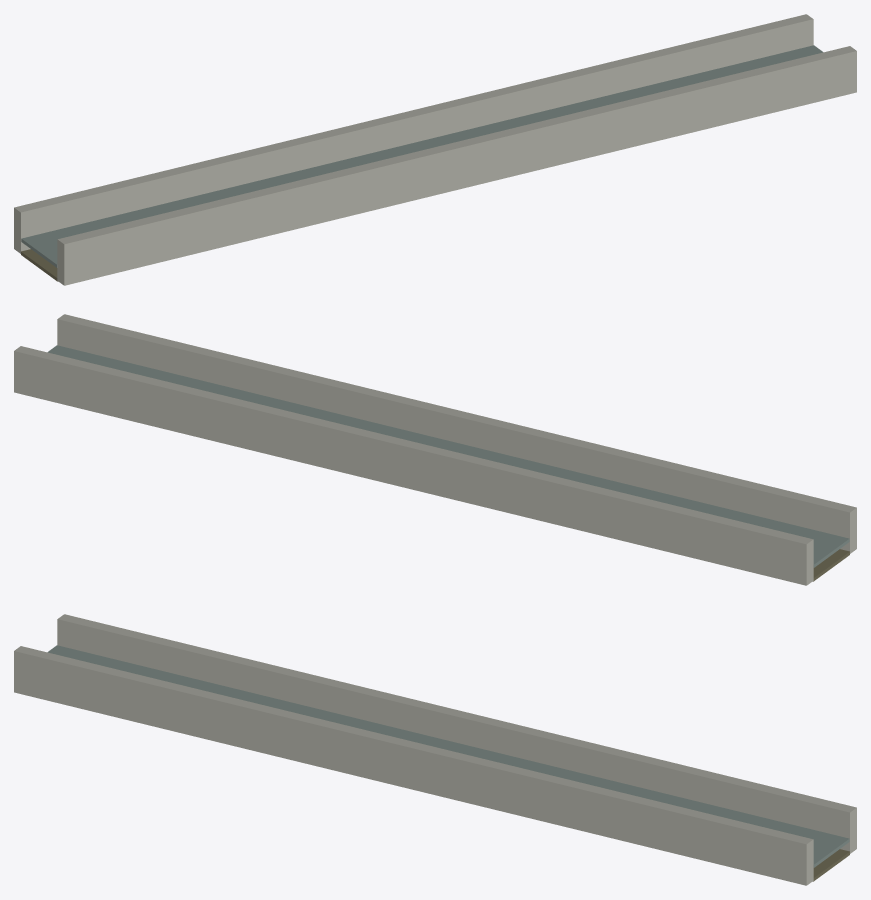
File: SM_Acequia_v0_Agua_LOD0.fbx
3 renders of one model, top to bottom at view 1: azimuth 30°, elevation 25°; view 2: azimuth 150°, elevation 25°; view 3: azimuth 330°, elevation 25°, orthographic.
Parts seen in each view (by area): view 1: SM_huerta_nules_v15_LOD0; view 2: SM_huerta_nules_v15_LOD0; view 3: SM_huerta_nules_v15_LOD0.
Part boxes in pixels (x1,y1,x2,y2): SM_huerta_nules_v15_LOD0: [14, 14, 856, 285]; SM_huerta_nules_v15_LOD0: [14, 314, 856, 585]; SM_huerta_nules_v15_LOD0: [14, 614, 856, 885].
Bounding box in the file's own units: 10 × 0.51 × 1.1.
